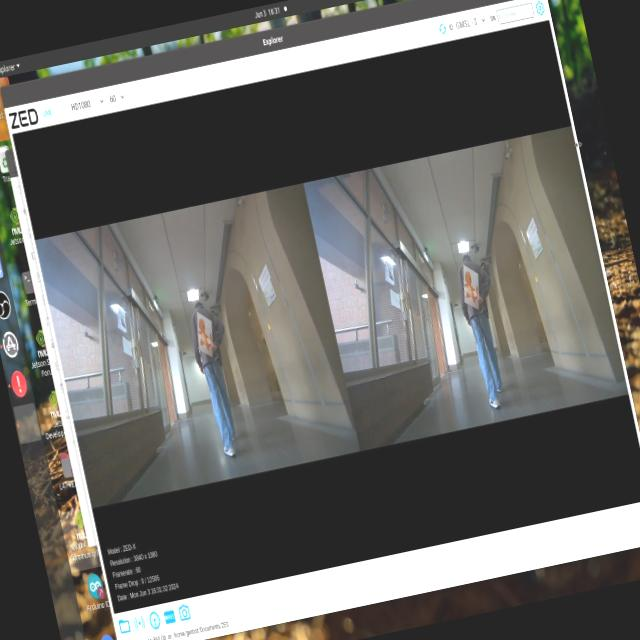red: (456, 266, 486, 309), (189, 310, 217, 352)
